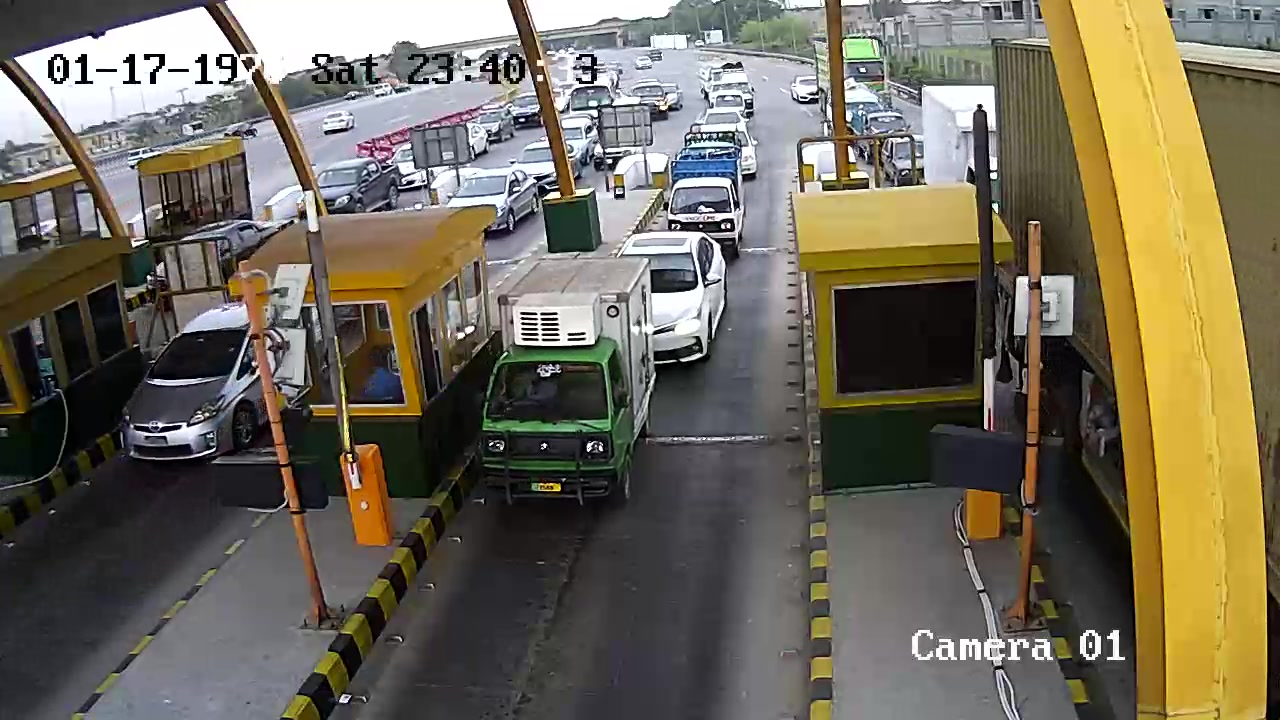F1: (487, 241, 670, 512)
